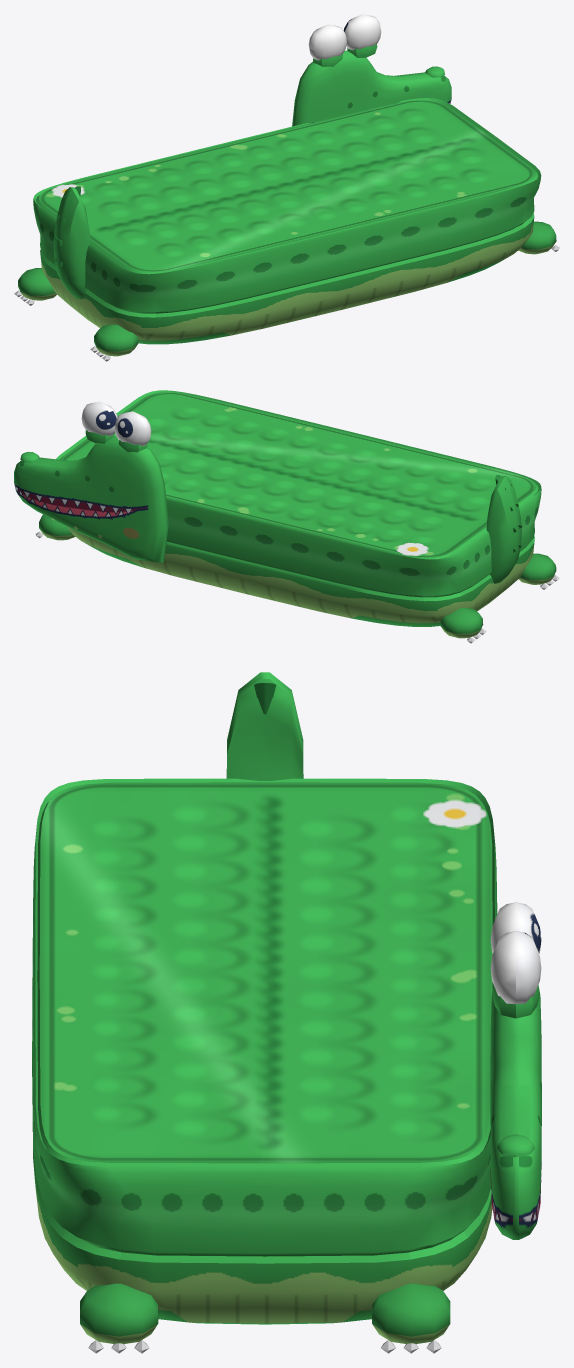
File: pool_croc_float.glb
3 renders of one model, top to bottom at view 1: azimuth 30°, elevation 25°; view 2: azimuth 150°, elevation 25°; view 3: azimuth 270°, elevation 25°, orthographic. The views are drawn at different scales.
Visible parts, largest first — view 1: pool_croc_float_LOD0; view 2: pool_croc_float_LOD0; view 3: pool_croc_float_LOD0.
Boxes of the visible parts, left/top/right/bottom form: pool_croc_float_LOD0: left=14, top=14, right=559, bottom=361; pool_croc_float_LOD0: left=14, top=390, right=559, bottom=643; pool_croc_float_LOD0: left=32, top=672, right=541, bottom=1353.
Size of the model in its own units: 16.08 by 6 by 8.03.
1 material, 1 textured.
